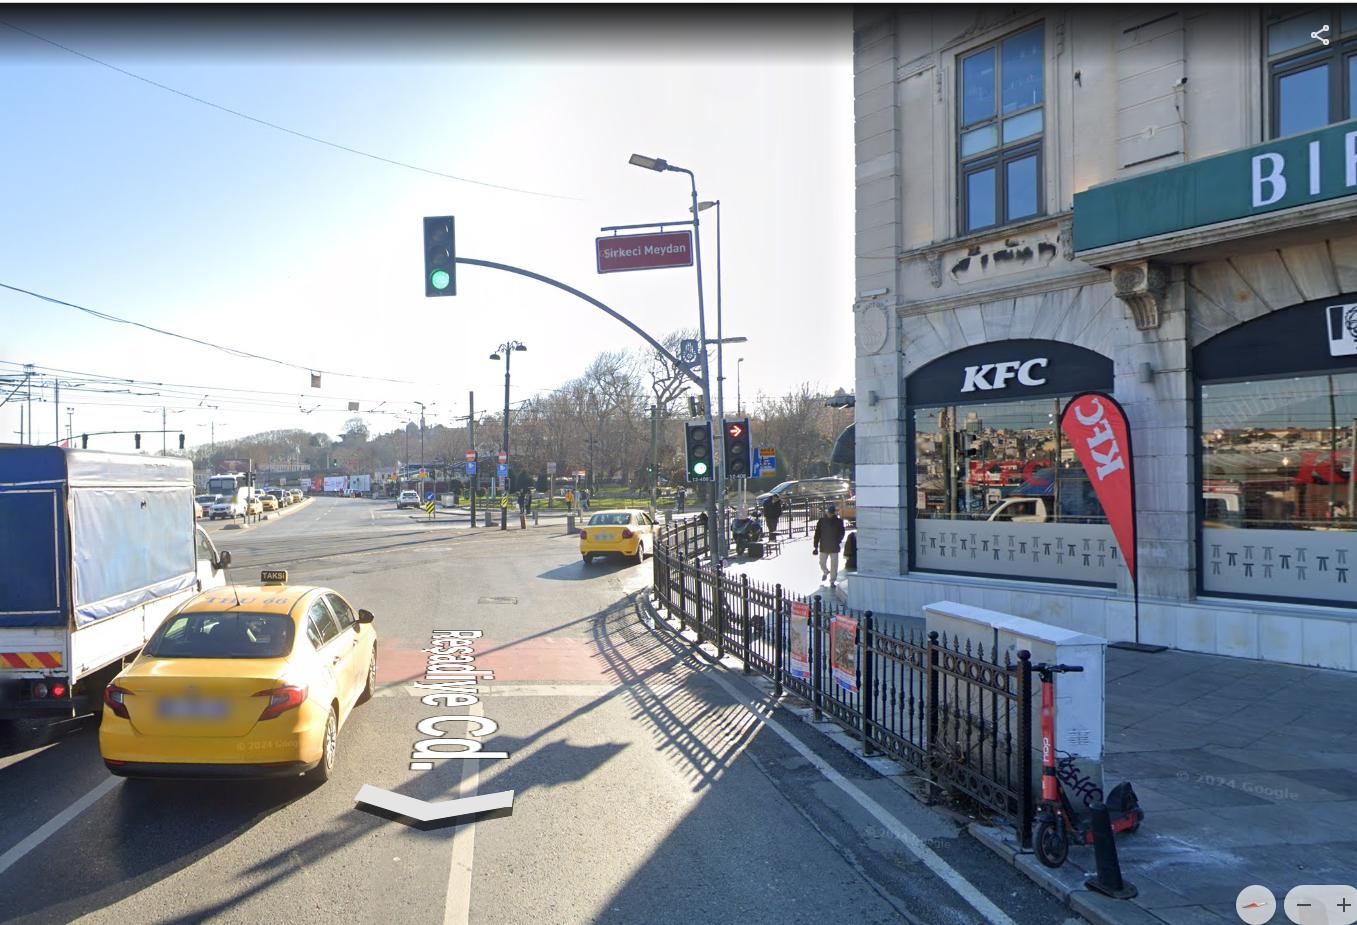greenlight: (425, 217, 458, 293), (688, 423, 711, 476)
